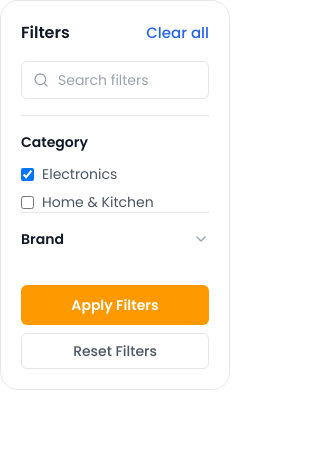
Scenario: ProductFilterSidebar › initializes checked state from selectedCategories and selectedBrands
Expected: the checkbox labelled "Electronics" is checked, [21, 168, 34, 180]
Click the button "Brand": x=115, y=239 [21, 229, 209, 249]
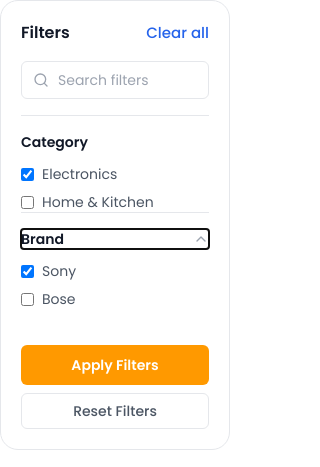
Expected: the checkbox labelled "Sony" is checked, [21, 264, 34, 278]
